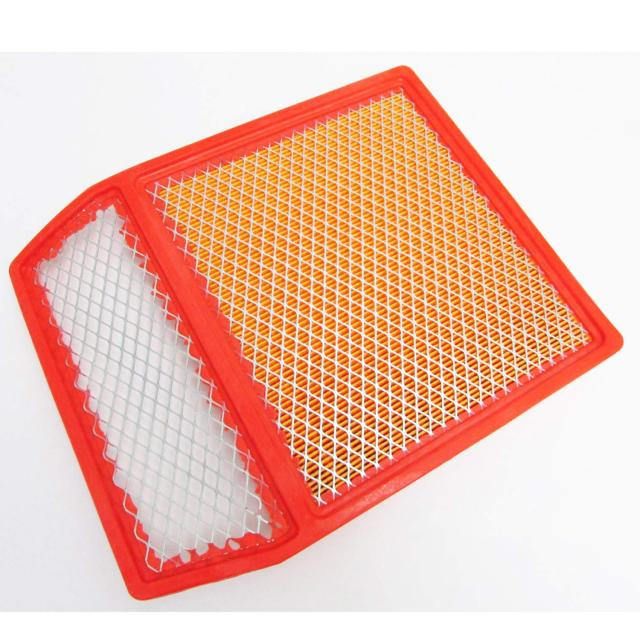air_filter: (16, 55, 639, 614)
